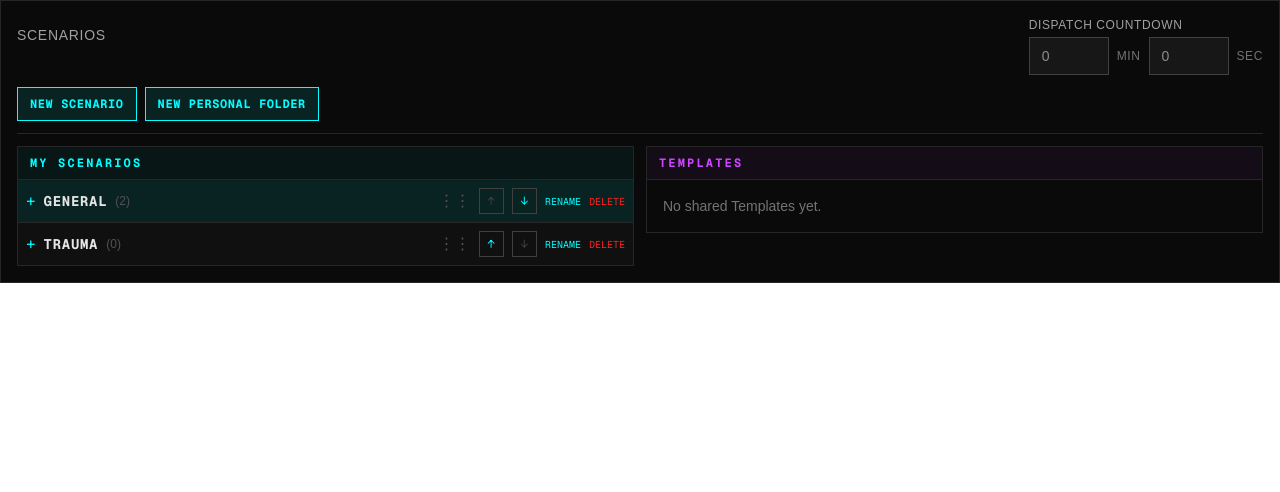
ScenarioLibraryPanel › keeps a loaded scenario loaded when its title is double-clicked to rename
Step 1. Click the button "+ General (2)" → [75, 201], box [26,189,431,213]
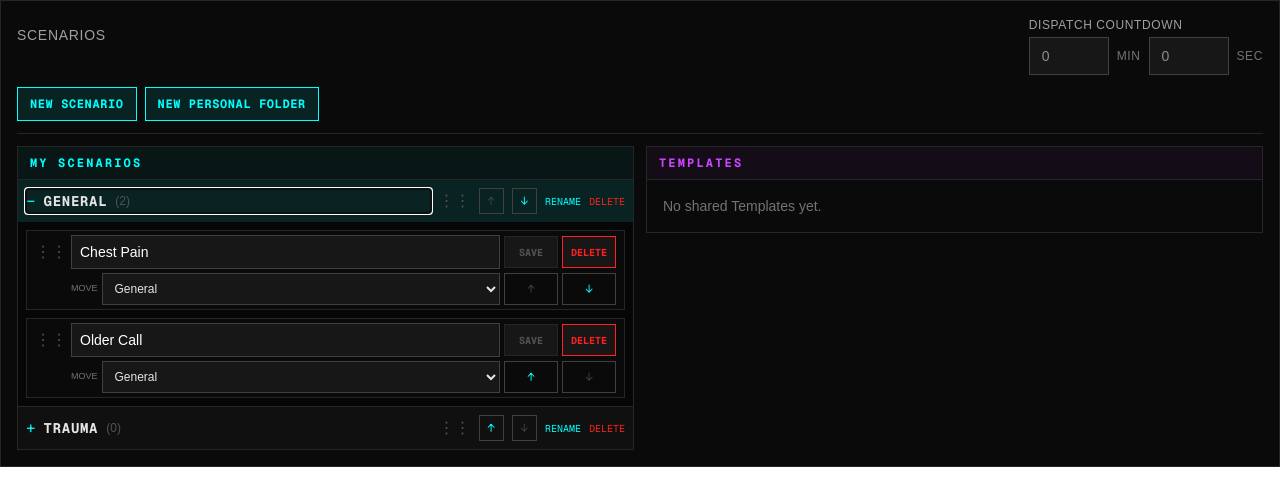
Step 2. Click the button with aria-label "Load Chest Pain" → [326, 270], box [26,230,625,310]
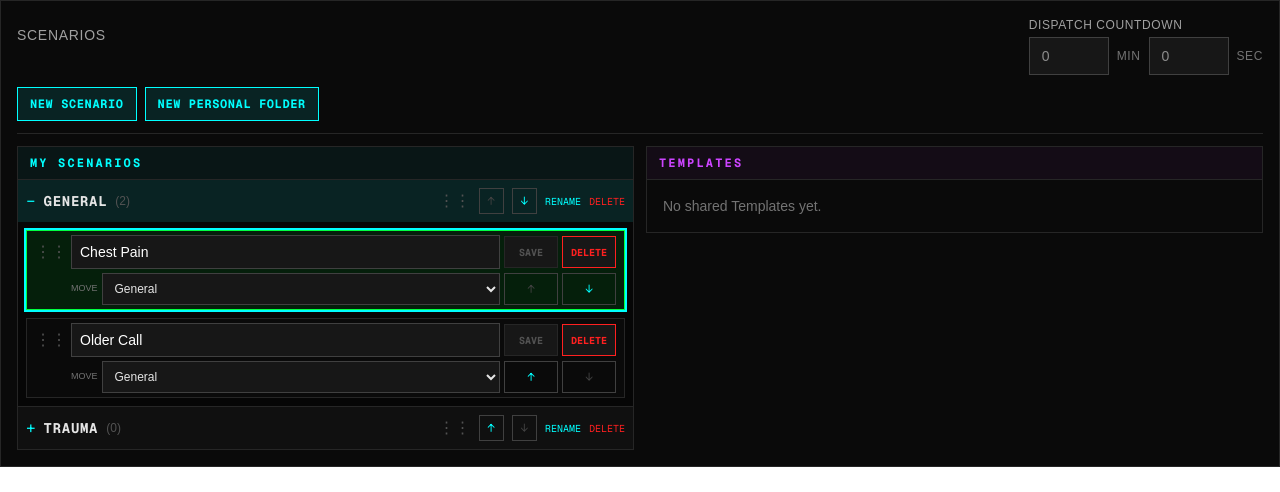
Step 3. Double-click the button with aria-label "Unload Chest Pain from title" → [114, 252], box [80,244,148,260]
Wait 251 ms
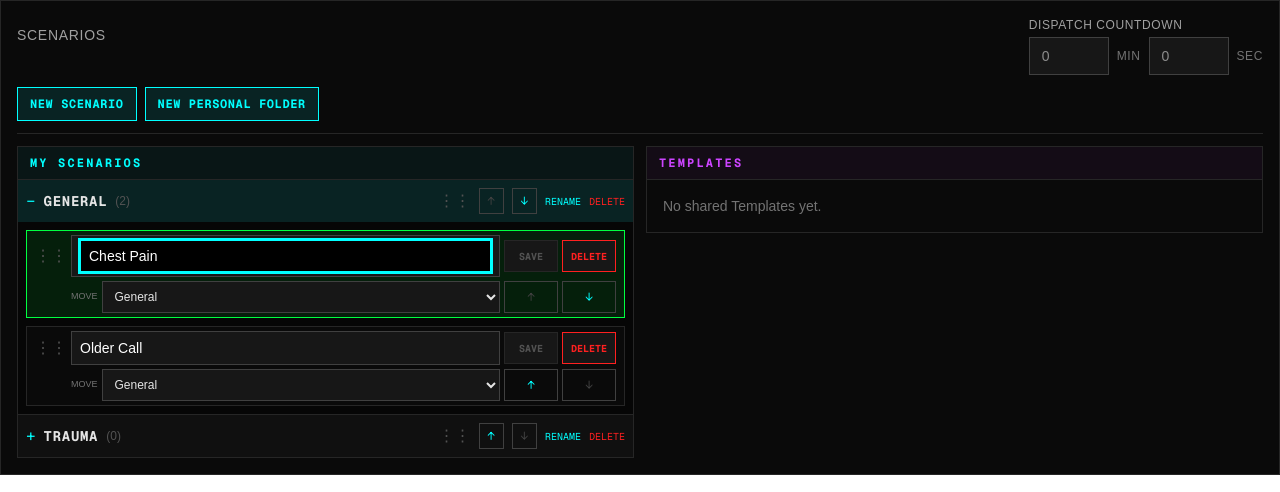
Check: the field named "Rename Chest Pain" is shown, box [80,240,491,272]
